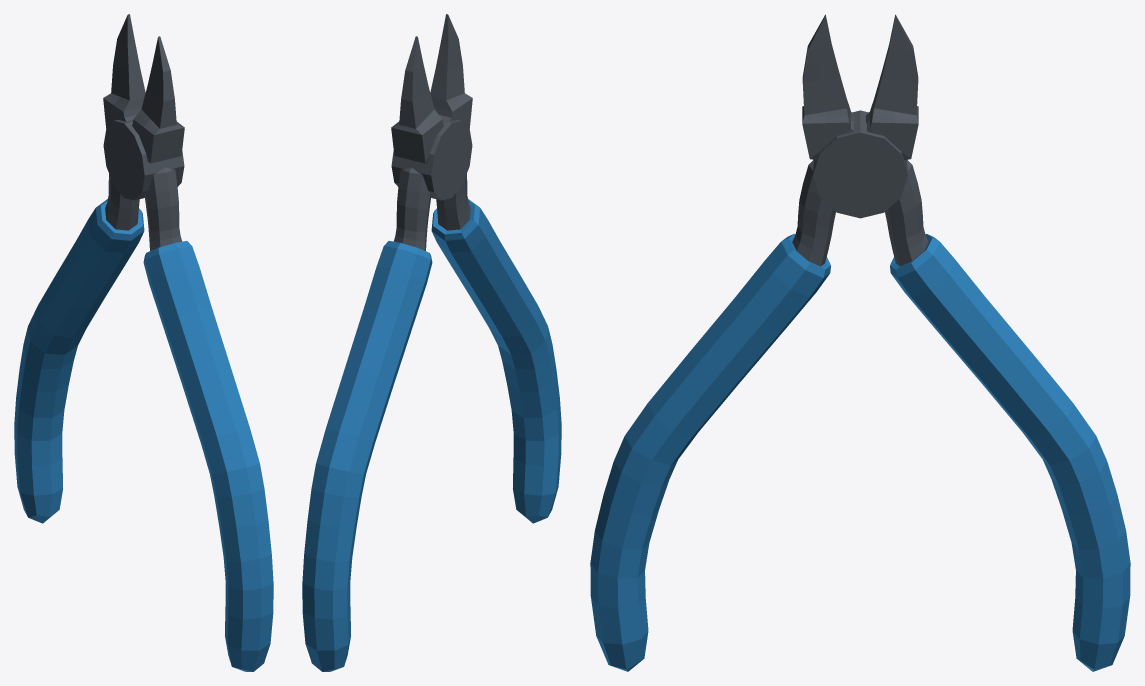
Rendered from Kusachki.fbx.
3 views of the same model, side by side, from view 1: azimuth 30°, elevation 25°; view 2: azimuth 150°, elevation 25°; view 3: azimuth 270°, elevation 25° (orthographic). The views are drawn at different scales.
Visible parts, largest first — view 1: Cube; view 2: Cube; view 3: Cube.
Part boxes in pixels (x1=…): Cube: x1=14, y1=14, x2=273, y2=671; Cube: x1=302, y1=14, x2=561, y2=671; Cube: x1=590, y1=14, x2=1130, y2=671.
Bounding box in the file's own units: 67.51 × 785 × 584.
